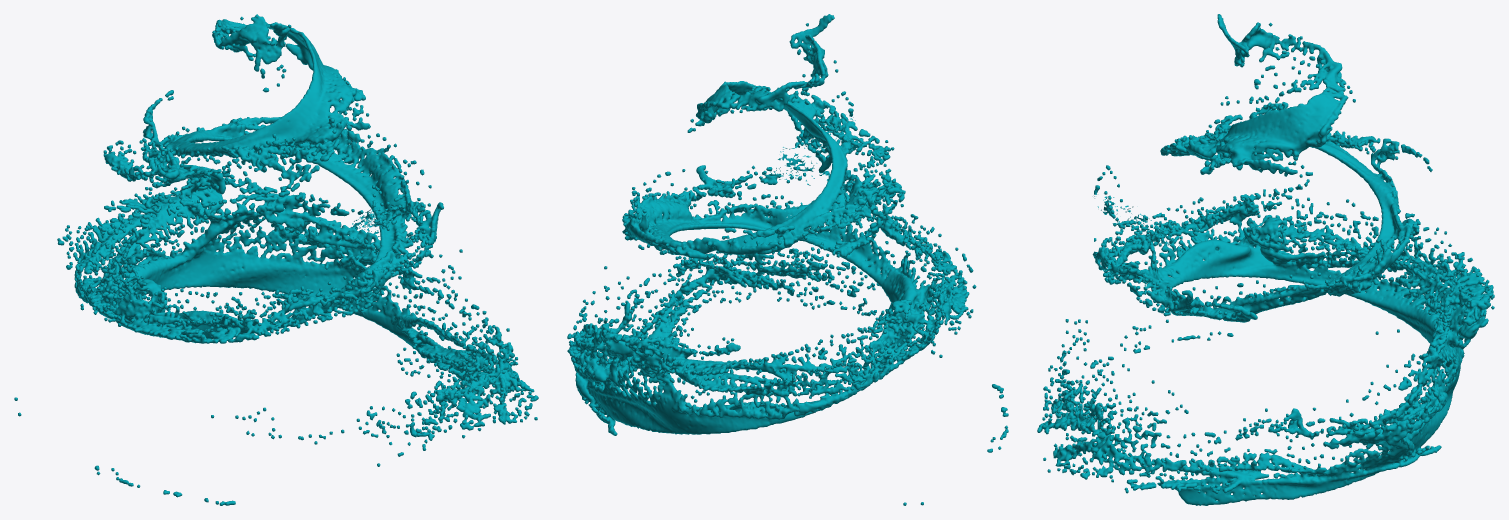
File: water1-opt.glb
3 renders of one model, left to right at view 1: azimuth 30°, elevation 25°; view 2: azimuth 150°, elevation 25°; view 3: azimuth 270°, elevation 25°, orthographic. The views are drawn at different scales.
Visible parts, largest first — view 1: Liquid__0; view 2: Liquid__0; view 3: Liquid__0.
Part boxes in pixels (x1,y1,x2,y2): Liquid__0: [14, 14, 538, 505]; Liquid__0: [567, 14, 1008, 505]; Liquid__0: [1037, 14, 1494, 505].
Bounding box in the file's own units: 0.949 × 0.9552 × 0.9767.
